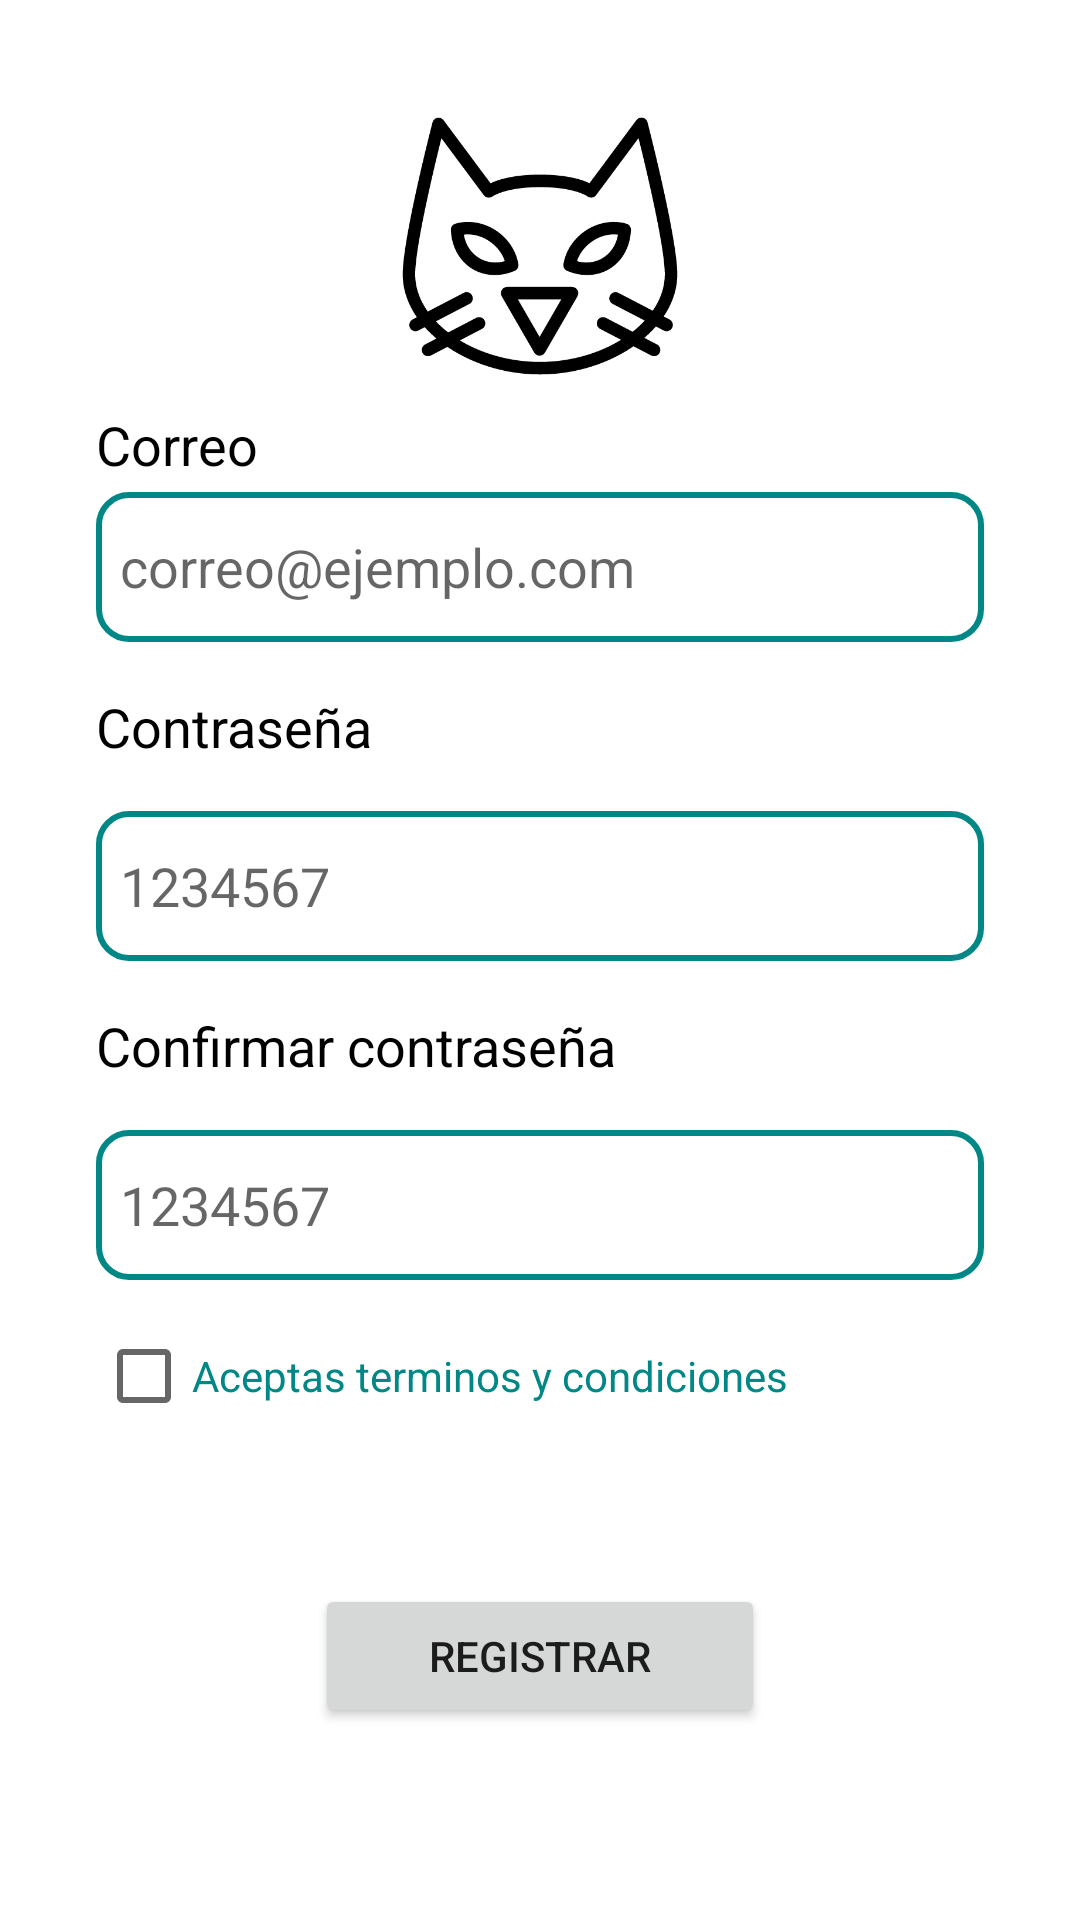

Point at icon controls on the screen. Image size 1080px×1920px, points as point (x, y).
cat: point (540, 246)
